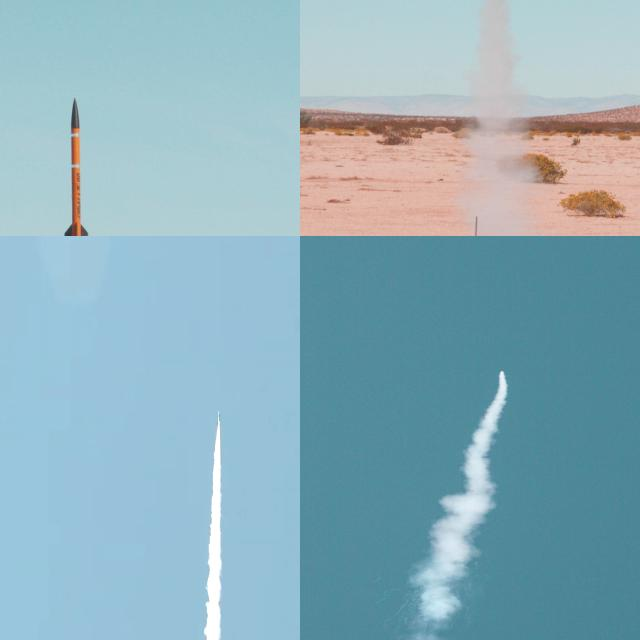Rocket: (63, 96, 89, 236), (218, 409, 220, 424), (500, 369, 504, 372)
